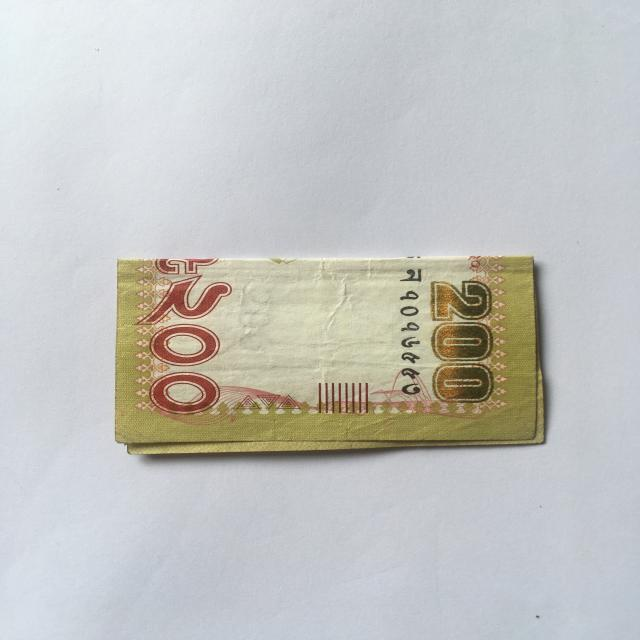Taka: (108, 251, 549, 461)
